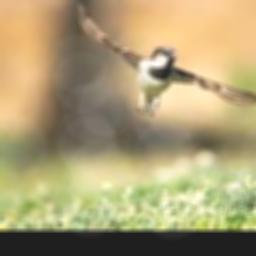Sparrow: (76, 4, 256, 115)
